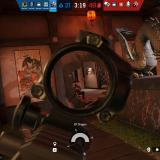Character: (72, 83, 86, 100)
Head: (75, 83, 78, 88)
